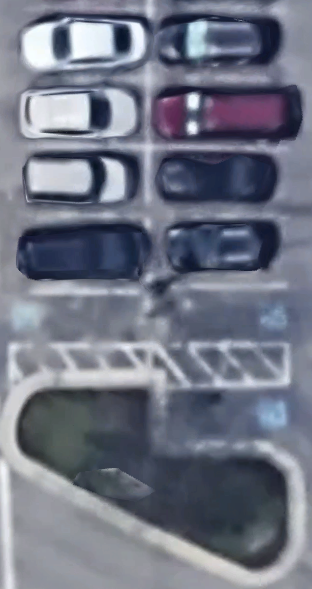Occupied: (148, 216, 288, 287), (9, 77, 148, 148), (148, 77, 287, 148), (10, 216, 148, 287), (10, 147, 148, 217), (148, 148, 287, 217), (9, 8, 148, 77), (148, 8, 286, 77)
Vacant: (159, 383, 293, 447), (148, 286, 289, 346), (9, 287, 148, 346)
